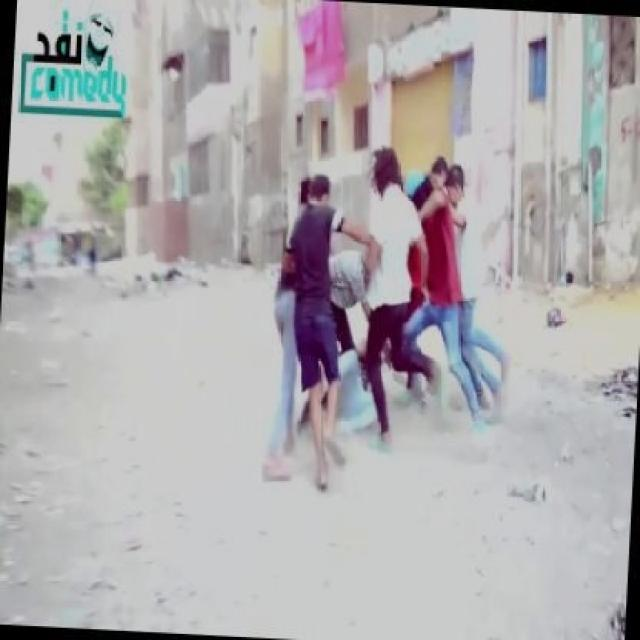fight: (265, 155, 515, 490)
